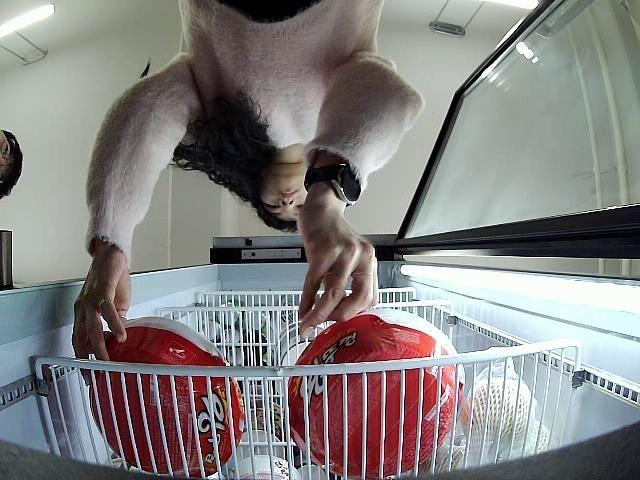10_wangTtukkeong: (284, 309, 465, 480), (90, 318, 242, 478)
